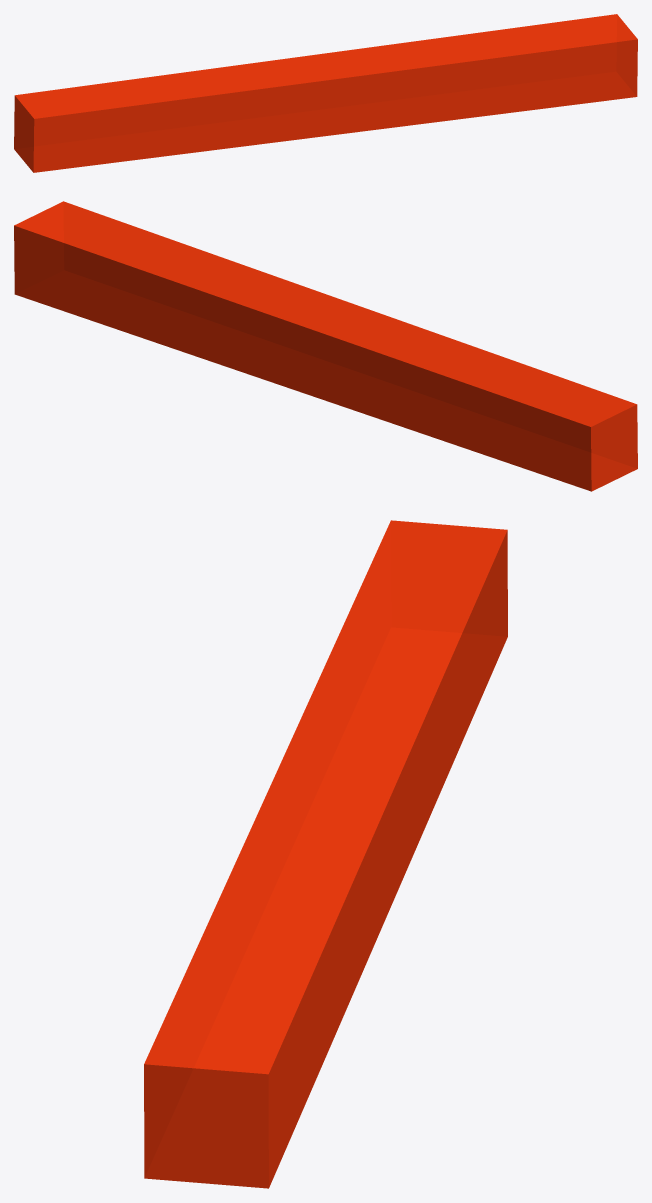
The model's file is Event_420107950_EErechit_57.fbx.
3 views of the same model, one above another, from view 1: azimuth 30°, elevation 25°; view 2: azimuth 150°, elevation 25°; view 3: azimuth 270°, elevation 25° (orthographic). The views are drawn at different scales.
Parts seen in each view (by area): view 1: Model; view 2: Model; view 3: Model.
Part boxes in pixels (left/top/right/bottom): Model: left=14, top=14, right=637, bottom=172; Model: left=14, top=201, right=637, bottom=491; Model: left=144, top=520, right=507, bottom=1188.
Bounding box in the file's own units: 0.7798 × 0.0875 × 0.2222.
